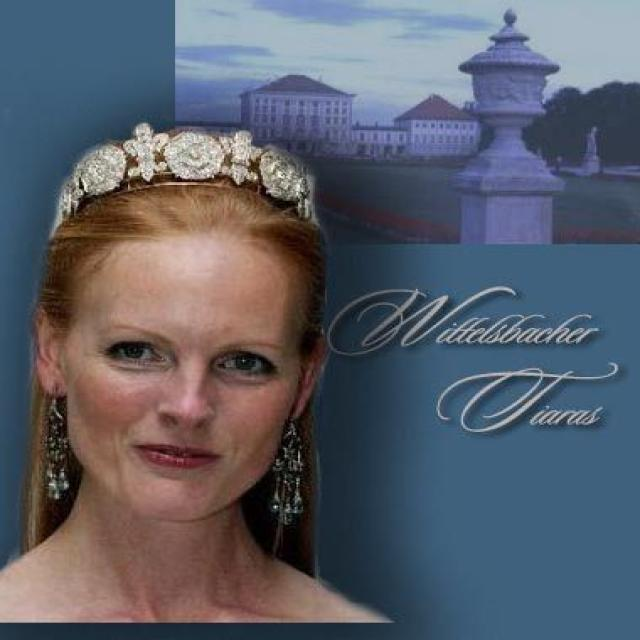Earring: (266, 416, 316, 536), (36, 396, 78, 518)
